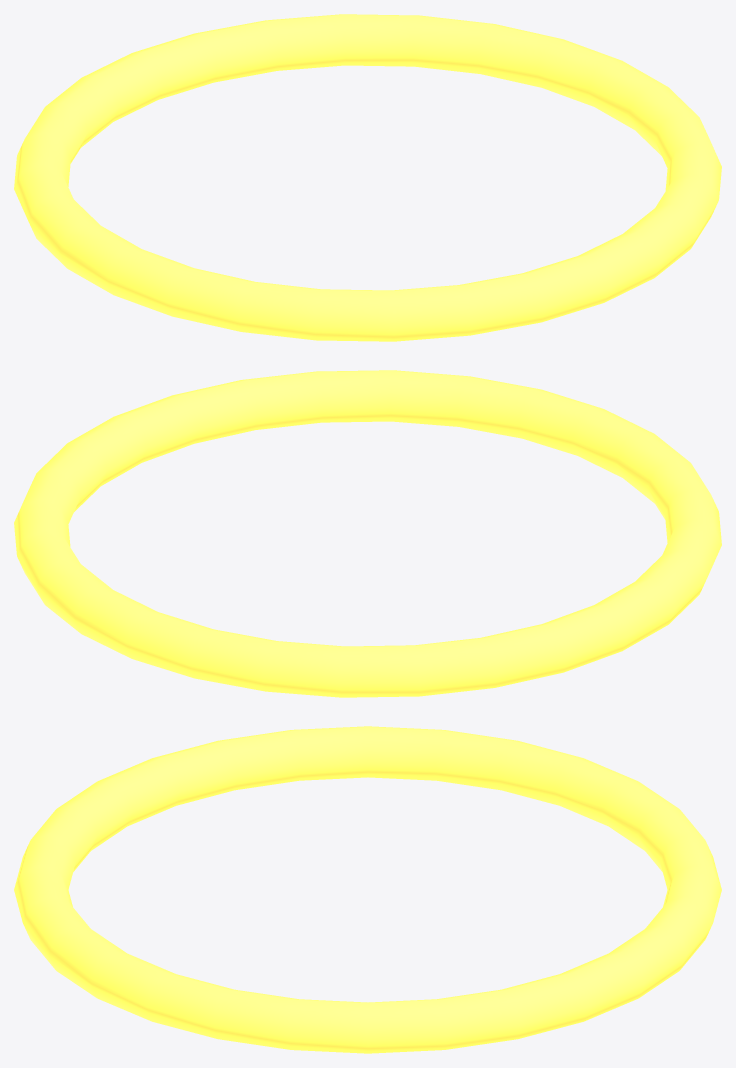
File: Diagram_SelectionHighlight.fbx
The picture shows the model from 3 angles, top to bottom: view 1: azimuth 30°, elevation 25°; view 2: azimuth 150°, elevation 25°; view 3: azimuth 270°, elevation 25°; orthographic projection.
Parts seen in each view (by area): view 1: Highlight_Ring; view 2: Highlight_Ring; view 3: Highlight_Ring.
Part boxes in pixels (x1,y1,x2,y2): Highlight_Ring: (14,14,721,341); Highlight_Ring: (14,370,721,697); Highlight_Ring: (14,726,721,1053).
Size of the model in its own units: 6.5 by 0.5 by 6.5.
